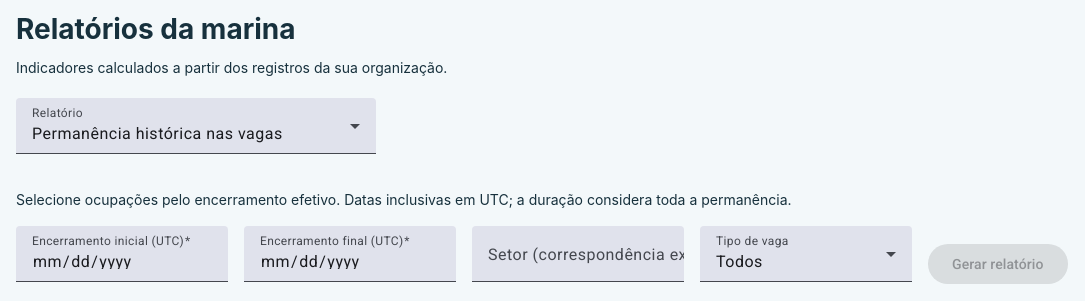
Test: RelatoriosComponent › formulário histórico exige ambas as datas e impede cronologia invertida
Expected: the button "Gerar relatório" is disabled, [928,244,1068,284]
Type "2026-10-11" into the date field labelled "Encerramento inicial (UTC)" at [122, 260], box [32,252,212,268]
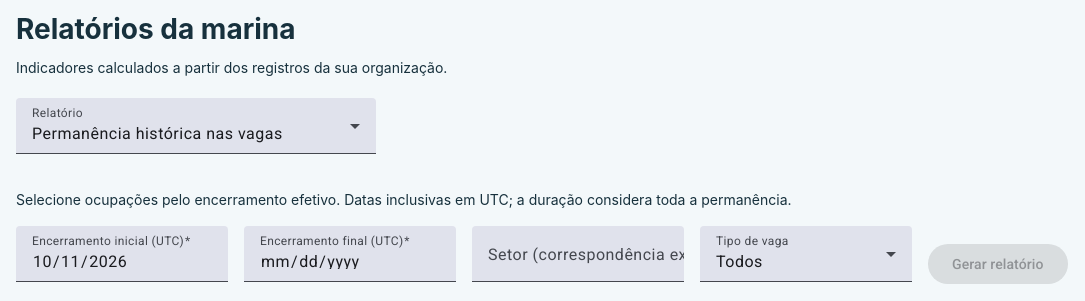
Type "2026-10-10" into the date field labelled "Encerramento final (UTC)" at [350, 260], box [260,252,440,268]
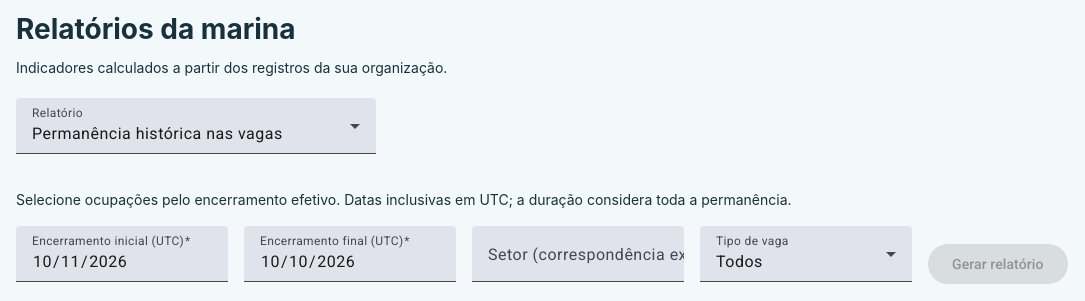
Expected: the button "Gerar relatório" is disabled, [928,244,1068,284]
Type "2026-10-11" into the date field labelled "Encerramento final (UTC)" at [350, 260], box [260,252,440,268]
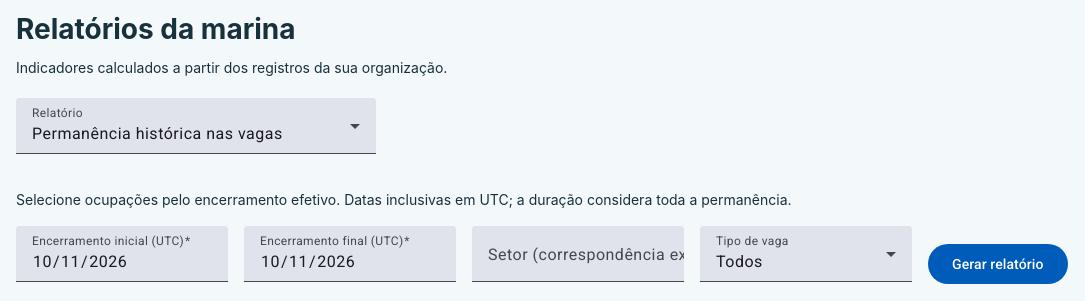
Now the button "Gerar relatório" is enabled, box [928,244,1068,284]
